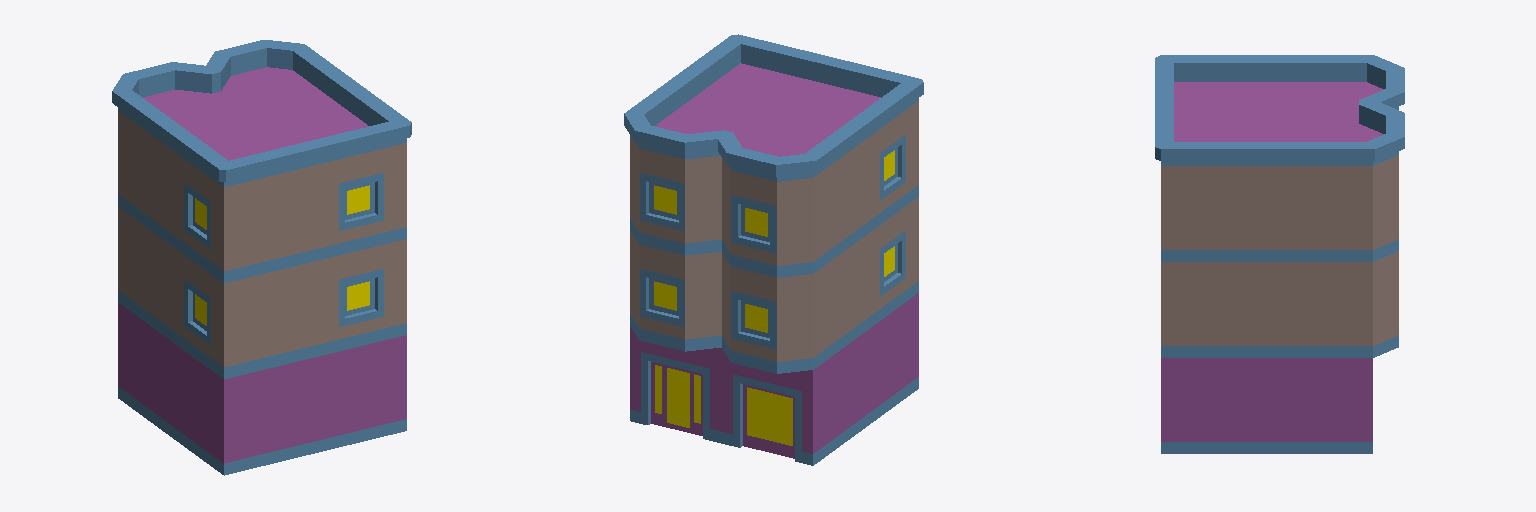
File: small_buildingA_CyPk.obj
3 renders of one model, left to right at view 1: azimuth 30°, elevation 25°; view 2: azimuth 150°, elevation 25°; view 3: azimuth 270°, elevation 25°, orthographic.
Visible parts, largest first — view 1: small_buildingA; view 2: small_buildingA; view 3: small_buildingA.
Boxes of the visible parts, x1,y1,x2,y2 form: small_buildingA: [112, 40, 411, 475]; small_buildingA: [624, 34, 923, 465]; small_buildingA: [1155, 55, 1404, 453].
Size of the model in its own units: 0.84 by 1.28 by 0.94.